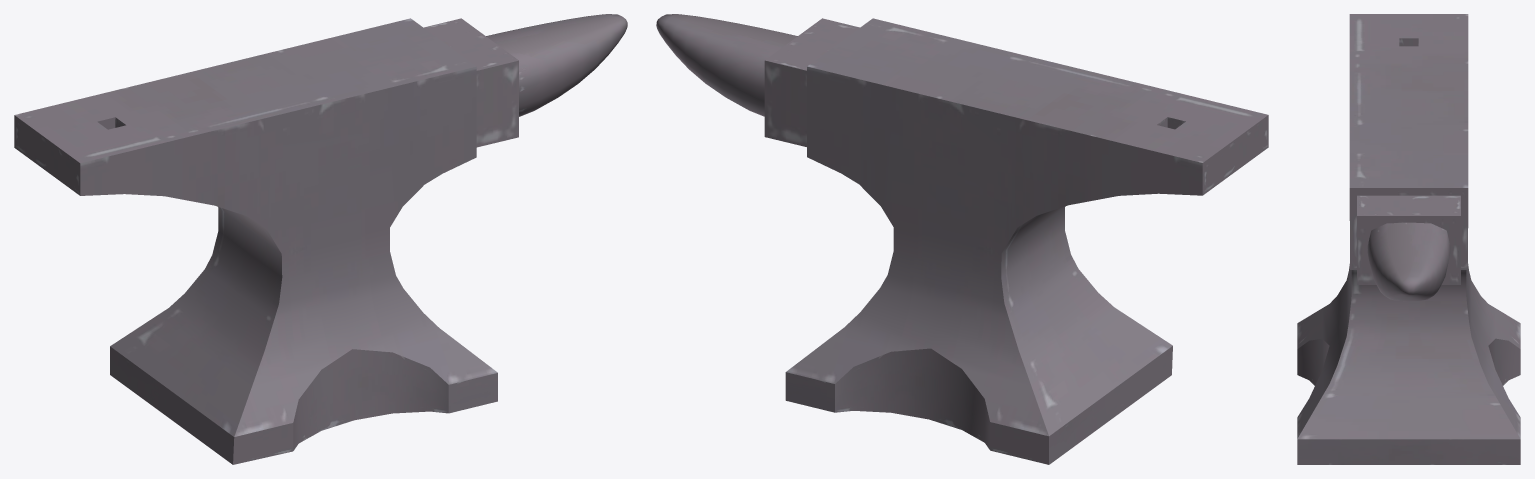
Rendered from anvil.glb.
3 views of the same model, side by side, from view 1: azimuth 30°, elevation 25°; view 2: azimuth 150°, elevation 25°; view 3: azimuth 270°, elevation 25° (orthographic). The views are drawn at different scales.
Parts seen in each view (by area): view 1: Anvil; view 2: Anvil; view 3: Anvil.
Part boxes in pixels (x1=…): Anvil: x1=14, y1=14, x2=627, y2=464; Anvil: x1=656, y1=14, x2=1268, y2=464; Anvil: x1=1297, y1=14, x2=1520, y2=464.
Bounding box in the file's own units: 1.08 × 0.5561 × 0.4016.
Materials: 1 (1 with a texture image).
